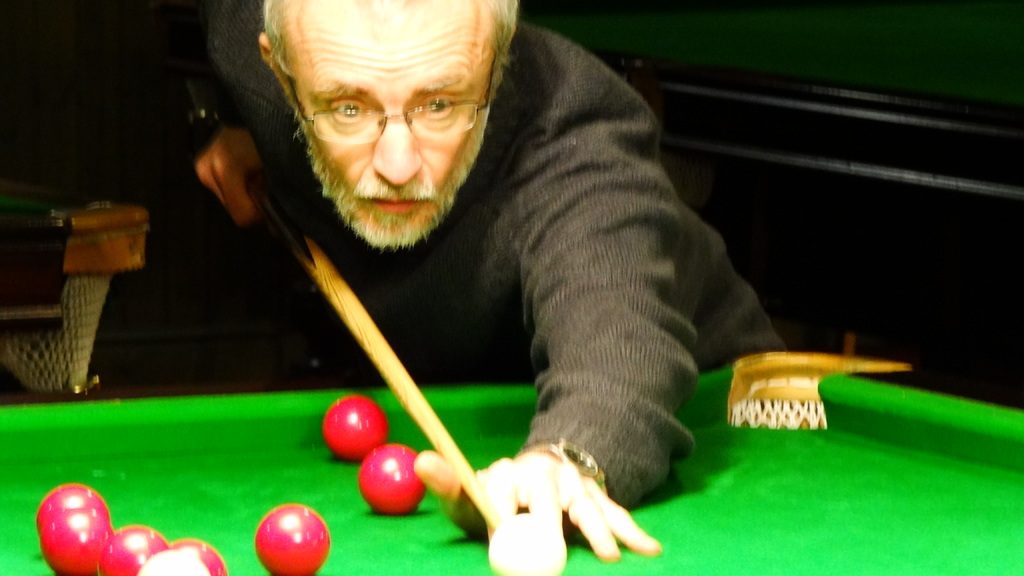Ball: (36, 481, 227, 575), (253, 503, 330, 575), (358, 444, 426, 518), (324, 396, 391, 463)
